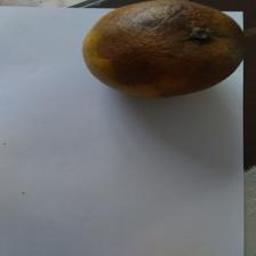Orange Rotten: (72, 0, 248, 116)
